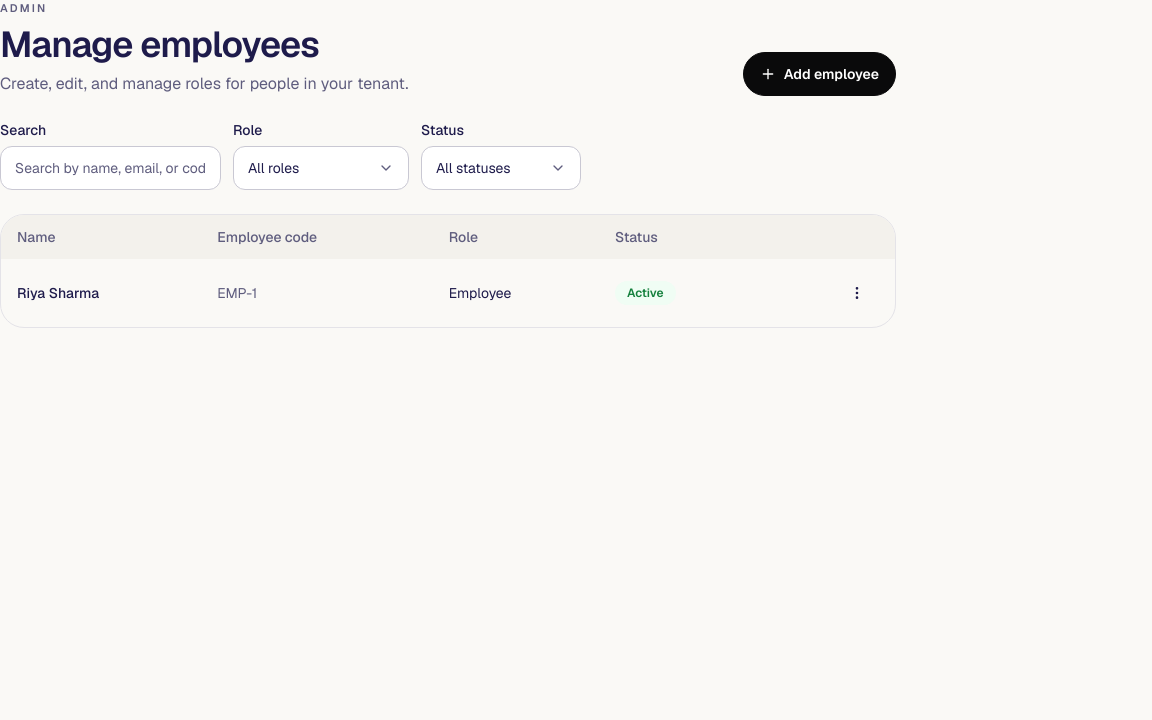
Test: UsersPage (tenant admin employee management) › permanent deletion › refreshes the list after a delete
The width and height of the screenshot is (1152, 720).
Click the button named "actions for riya sharma": (857, 293) [835,271,879,315]
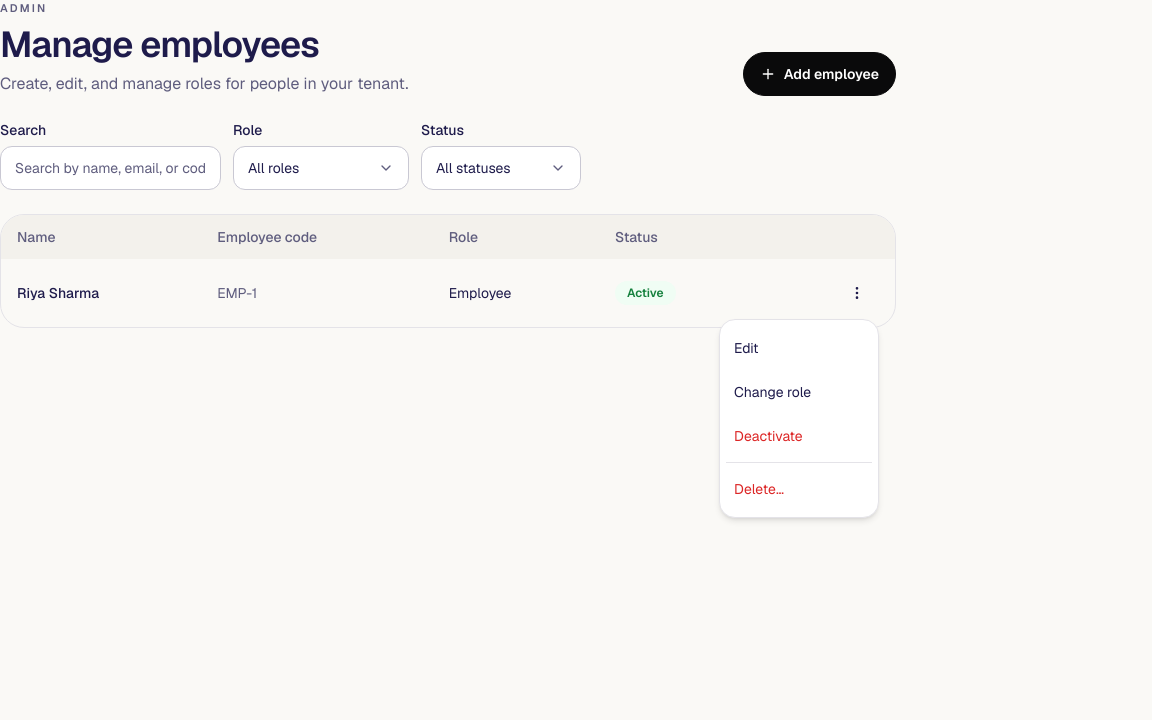
Click the menu item "Delete…": (759, 489) [734,480,784,498]
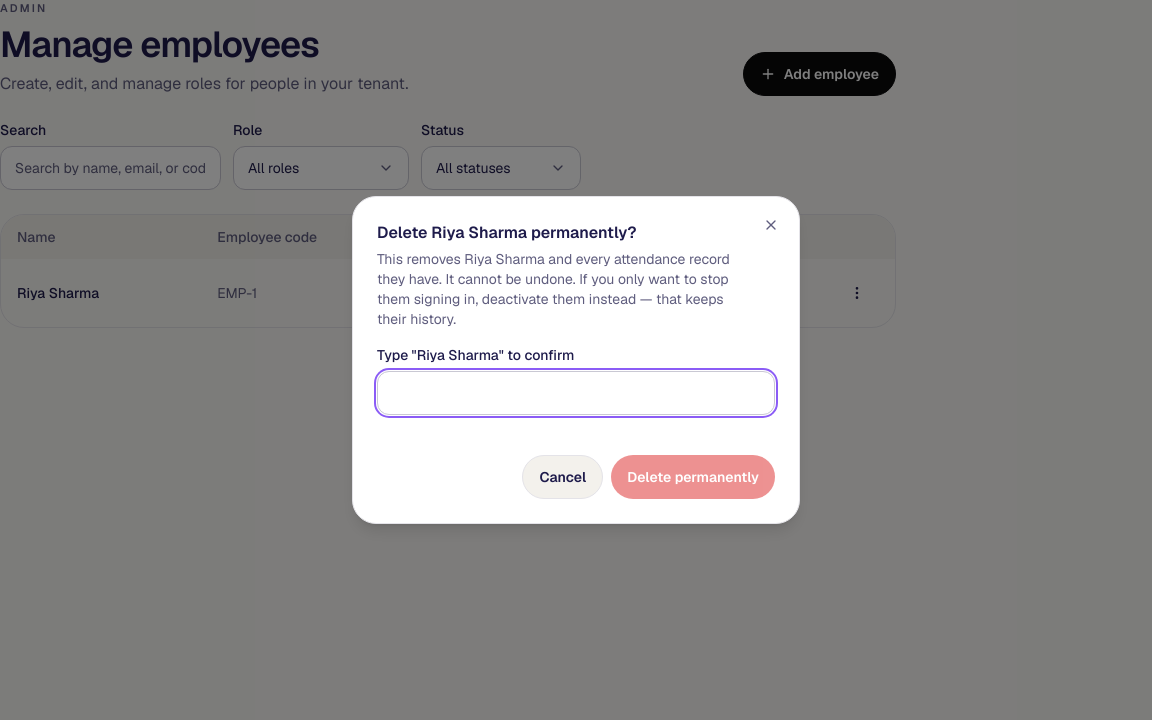
In the field labelled "Type \"Riya Sharma\" to confirm": (576, 393) [377,371,775,415], type "riya sharma"
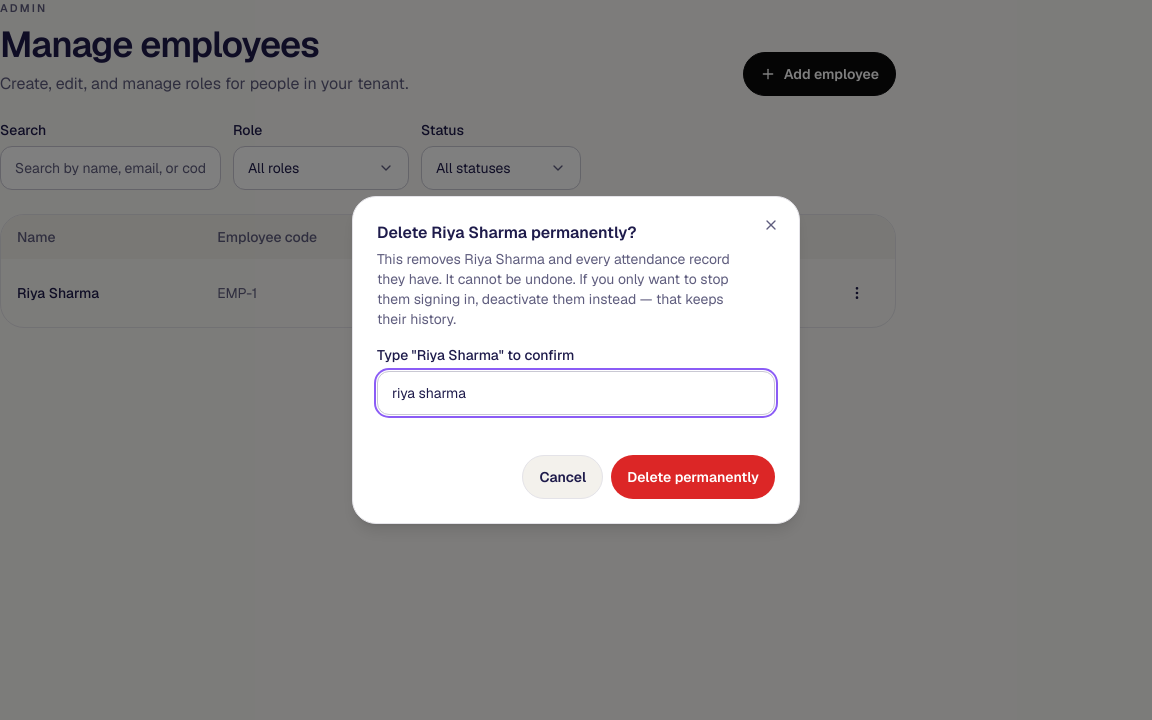
Click the button "Delete permanently": (693, 477) [611,455,775,499]
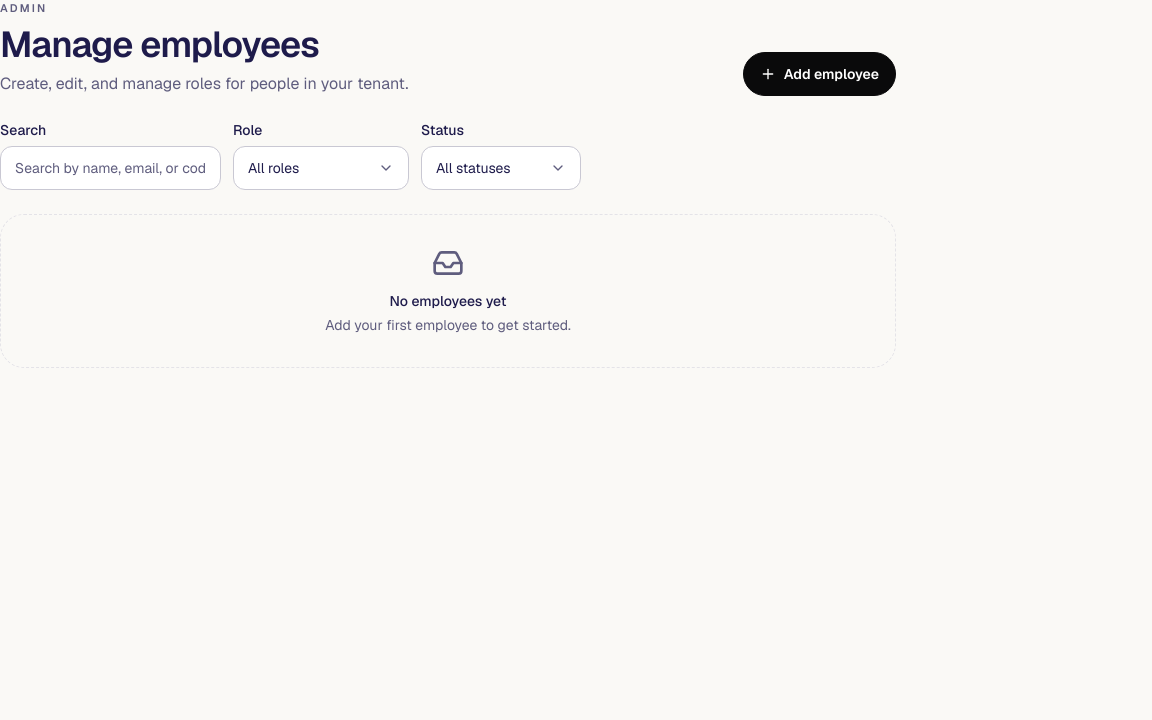
expect the text "No employees yet" is shown: met, box [390,292,506,310]
